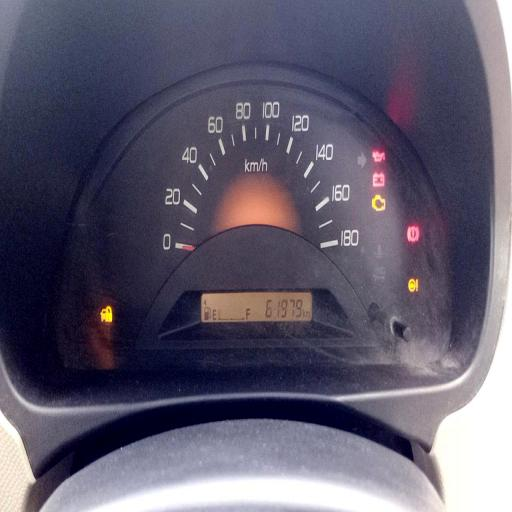brake_system_fault: (407, 225, 419, 243)
car_closed: (100, 305, 113, 322)
check_engine: (372, 194, 386, 212)
oil: (371, 149, 386, 162)
vehicle_charging: (373, 172, 385, 186)
